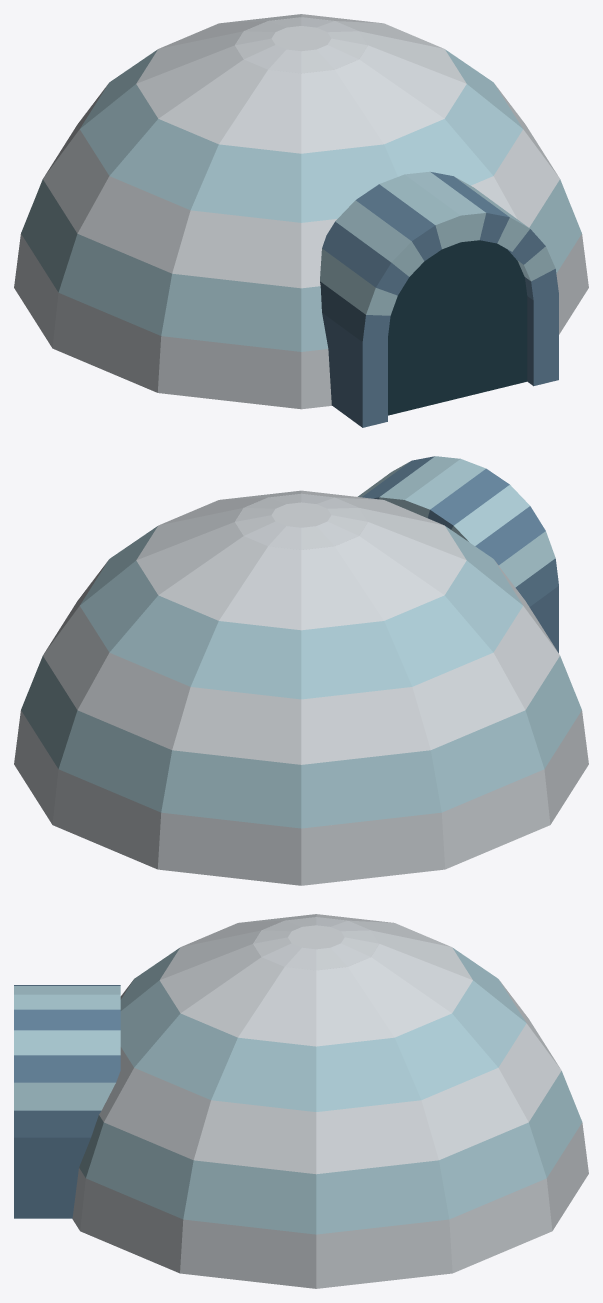
The model's file is Frosty_Igloo_Simple.glb.
3 renders of one model, top to bottom at view 1: azimuth 30°, elevation 25°; view 2: azimuth 150°, elevation 25°; view 3: azimuth 270°, elevation 25°, orthographic. The views are drawn at different scales.
Visible parts, largest first — view 1: Frosty_Igloo_Simple; view 2: Frosty_Igloo_Simple; view 3: Frosty_Igloo_Simple.
Boxes of the visible parts, left/top/right/bottom form: Frosty_Igloo_Simple: left=14, top=14, right=588, bottom=427; Frosty_Igloo_Simple: left=14, top=456, right=588, bottom=885; Frosty_Igloo_Simple: left=14, top=914, right=588, bottom=1288.
Bounding box in the file's own units: 2.3 × 1.1 × 2.42.
